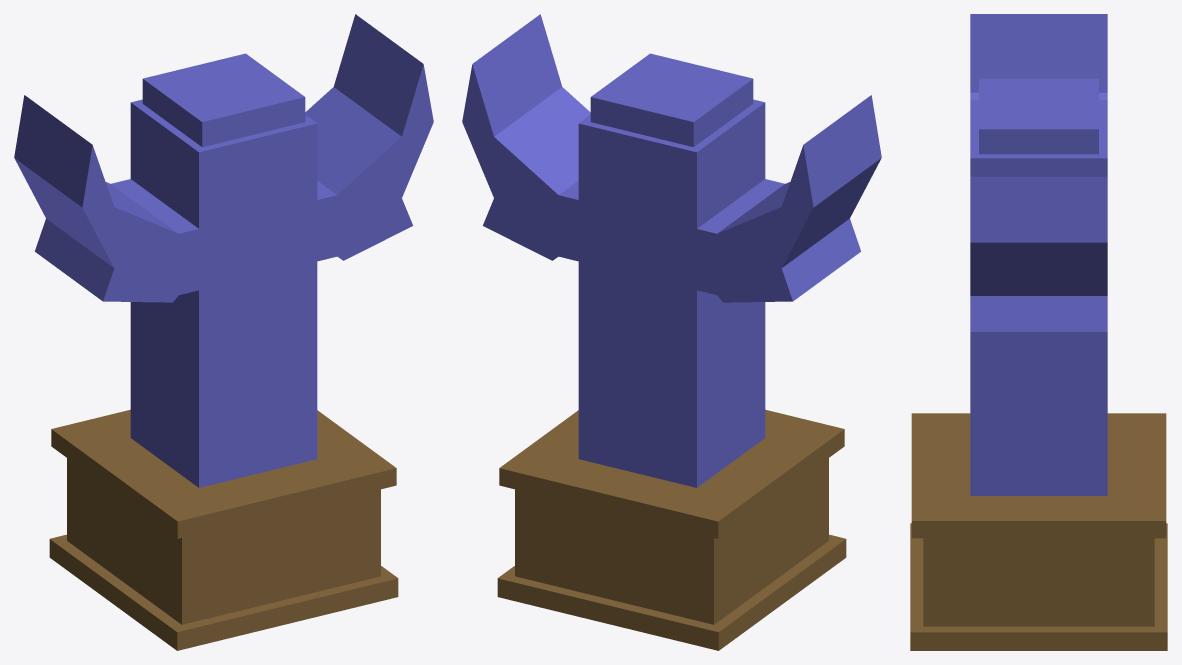
Rendered from Rei.fbx.
3 views of the same model, side by side, from view 1: azimuth 30°, elevation 25°; view 2: azimuth 150°, elevation 25°; view 3: azimuth 270°, elevation 25° (orthographic).
Visible parts, largest first — view 1: Plane; view 2: Plane; view 3: Plane.
Boxes of the visible parts, box(x1,y1,x2,y2) form: Plane: box(14, 14, 433, 650); Plane: box(462, 14, 881, 650); Plane: box(910, 14, 1167, 650).
Bounding box in the file's own units: 635 × 860 × 400.
